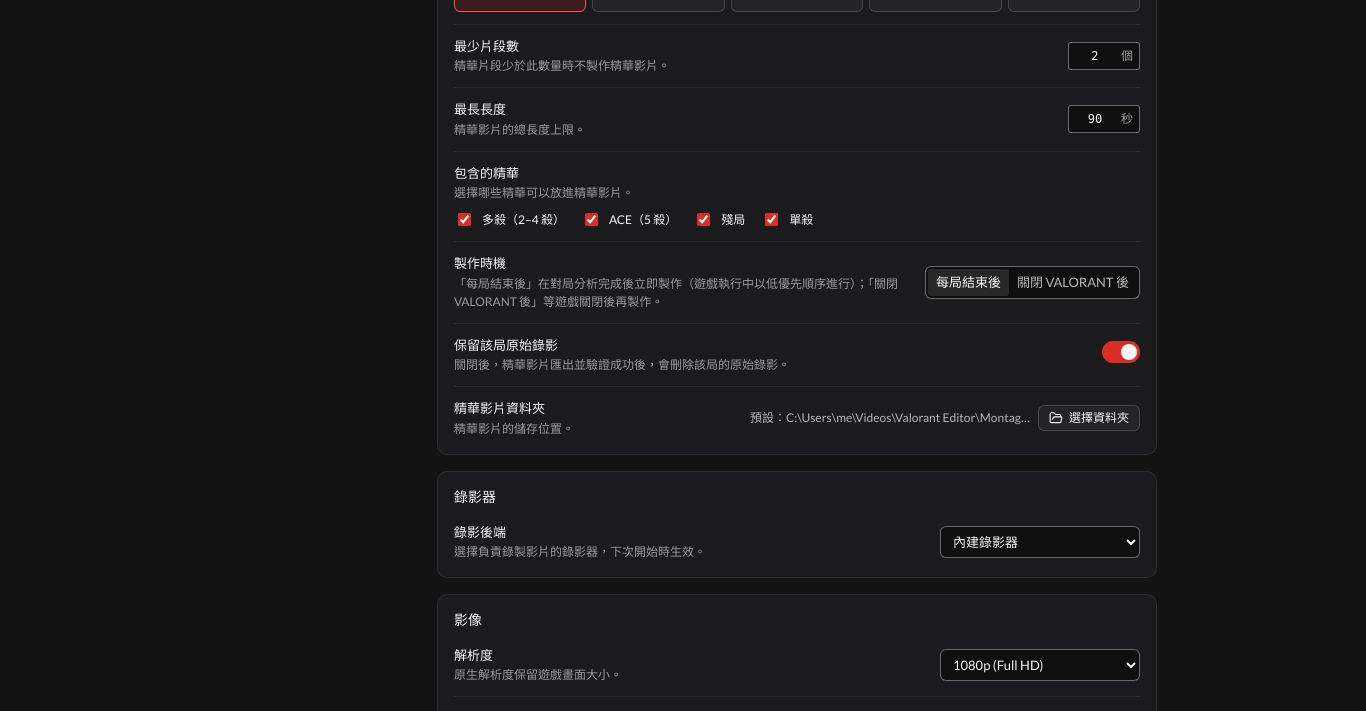
Test: Auto montage settings card › turning off "keep source" asks once; cancel keeps it on, confirm saves and is remembered
Later steps or results of the test are not shown.
(page scrolled)
Click the switch labelled "保留該局原始錄影" at {"x": 1121, "y": 352}, box x1=1102 y1=341 x2=1140 y2=363
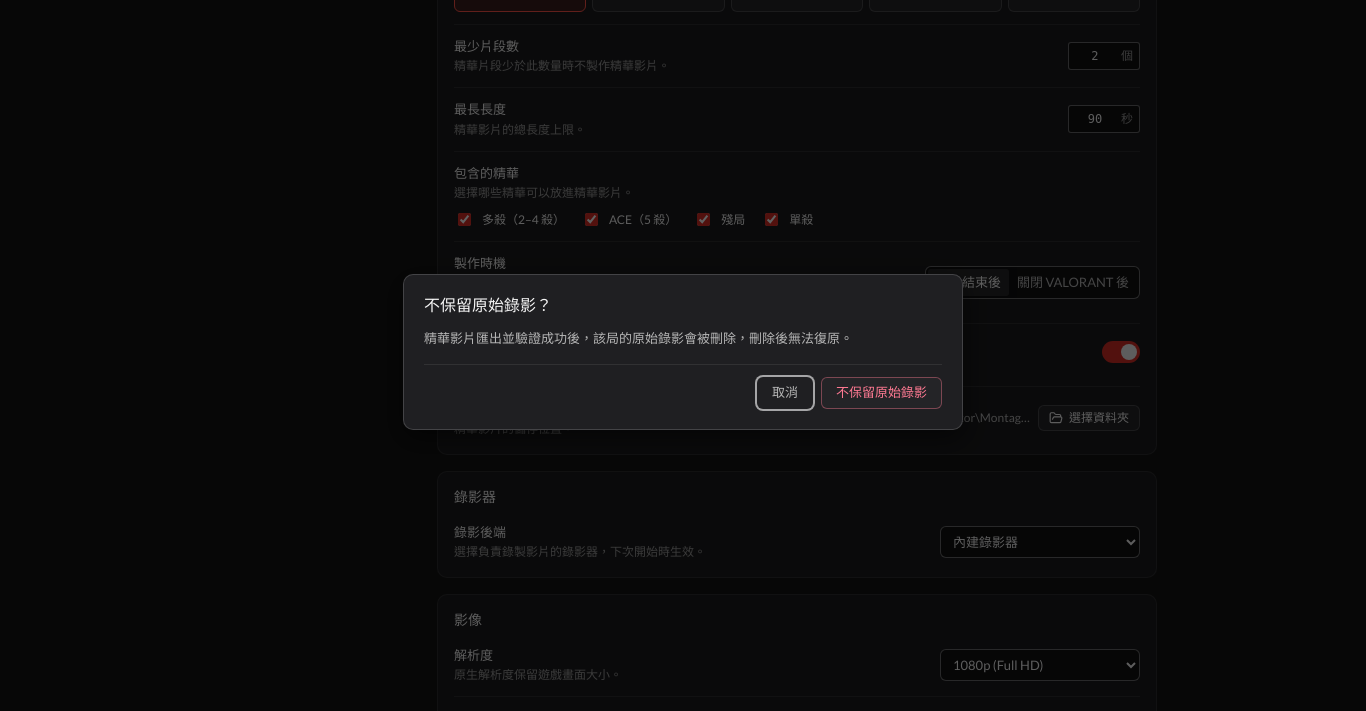
Check: the dialog is shown, box x1=403 y1=274 x2=963 y2=430
Check: the dialog shows "精華影片匯出並驗證成功後，該局的原始錄影會被刪除，刪除後無法復原。", box x1=424 y1=330 x2=853 y2=346
Click the button with id "set-autoMontage-keepSourceRecording-confirm-cancel" at {"x": 785, "y": 393}, box x1=757 y1=377 x2=813 y2=409
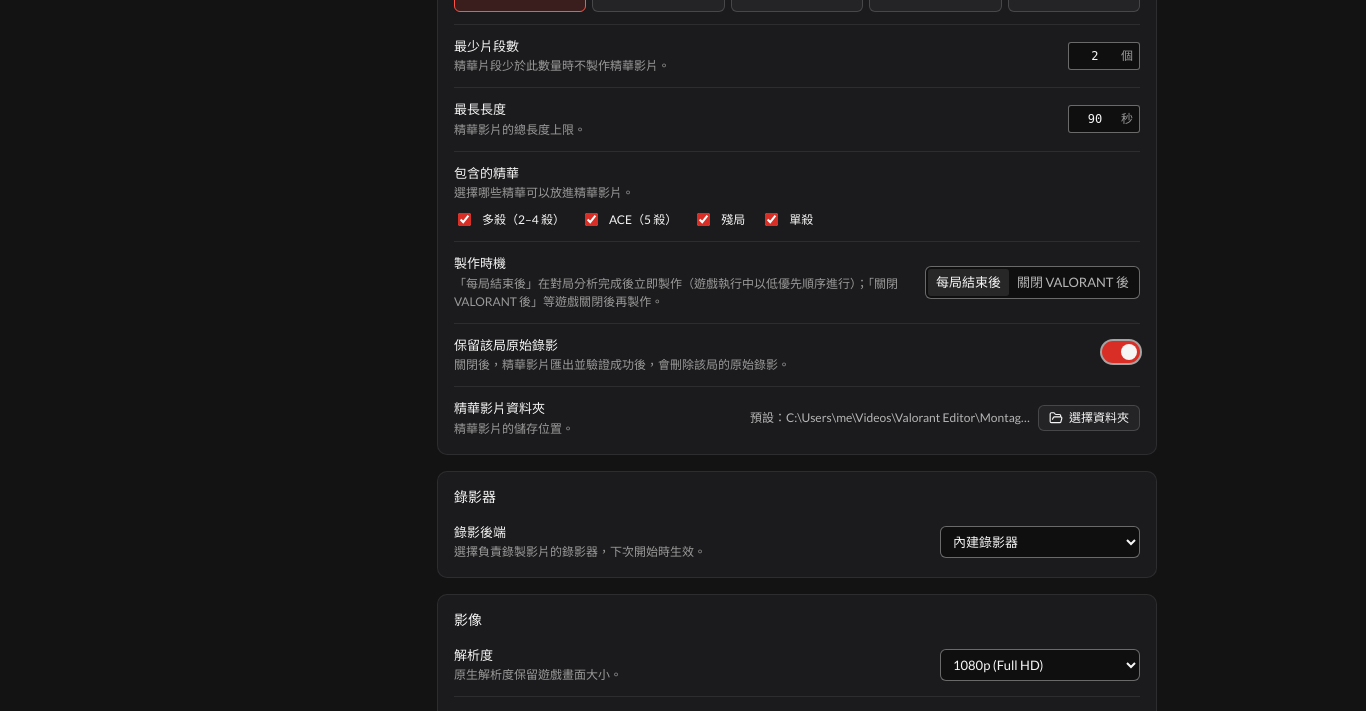
Check: the dialog is gone
